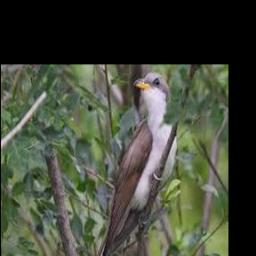Cuckoo: (92, 71, 176, 256)
